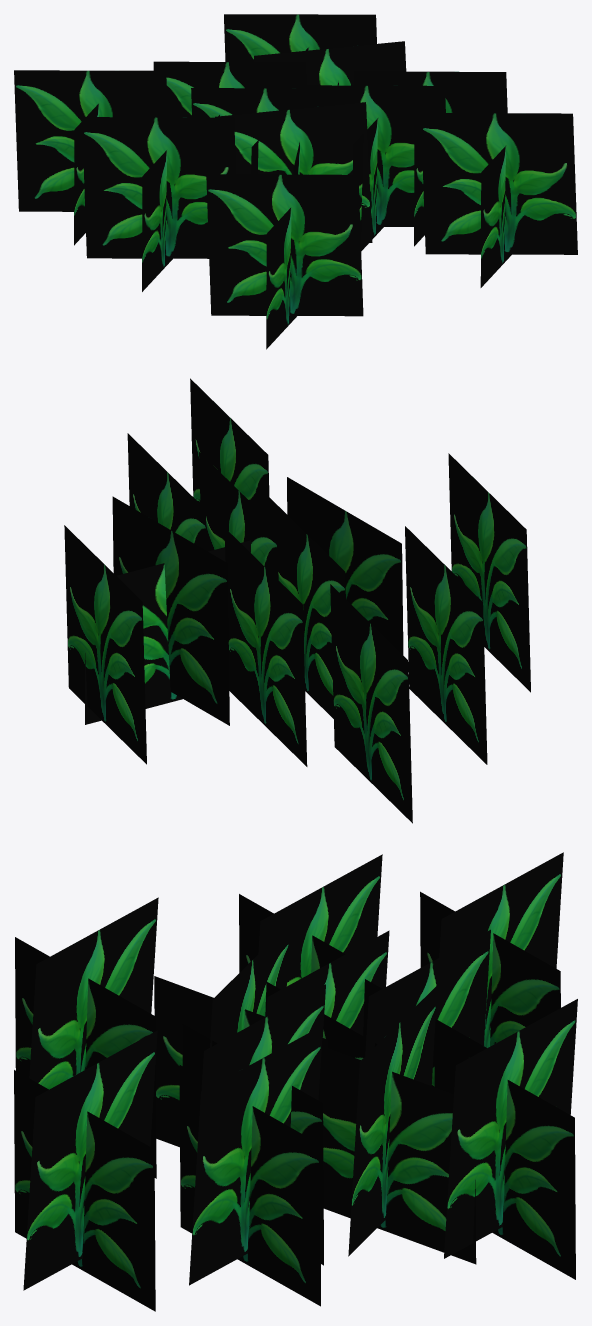
File: grass_1_2.gltf
3 renders of one model, top to bottom at view 1: azimuth 30°, elevation 25°; view 2: azimuth 150°, elevation 25°; view 3: azimuth 270°, elevation 25°, orthographic. The views are drawn at different scales.
Visible parts, largest first — view 1: Grass1Mesh2; view 2: Grass1Mesh2; view 3: Grass1Mesh2.
Part boxes in pixels (bbox=[...]): Grass1Mesh2: bbox=[14, 14, 577, 349]; Grass1Mesh2: bbox=[64, 378, 530, 823]; Grass1Mesh2: bbox=[14, 852, 577, 1311].
Bounding box in the file's own units: 2.21 × 0.9324 × 2.09.
1 material, 1 textured.
